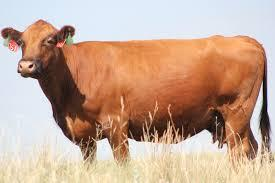cow: (1, 19, 270, 165)
